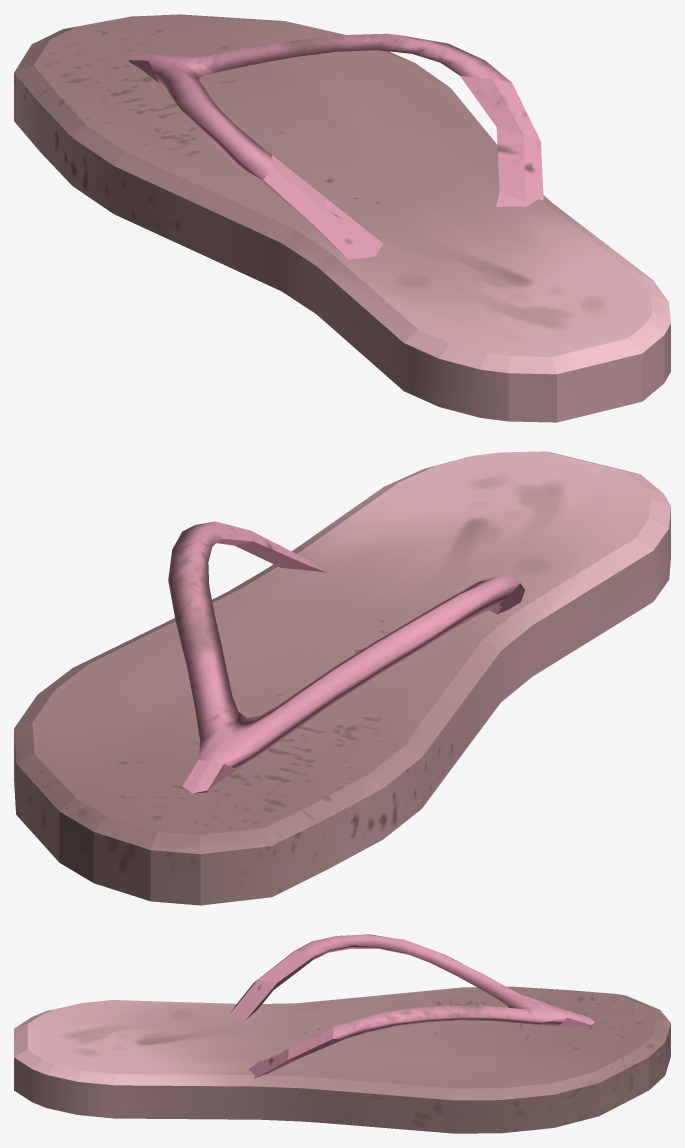
The model's file is pinkFlipFlop_Right.FBX.
3 renders of one model, top to bottom at view 1: azimuth 30°, elevation 25°; view 2: azimuth 150°, elevation 25°; view 3: azimuth 270°, elevation 25°, orthographic. The views are drawn at different scales.
Visible parts, largest first — view 1: pinkFlipFlop_Right; view 2: pinkFlipFlop_Right; view 3: pinkFlipFlop_Right.
Boxes of the visible parts, x1=… form: pinkFlipFlop_Right: x1=14, y1=14, x2=670, y2=422; pinkFlipFlop_Right: x1=14, y1=451, x2=670, y2=905; pinkFlipFlop_Right: x1=14, y1=934, x2=670, y2=1133.
Bounding box in the file's own units: 11.76 × 4.84 × 29.02.
Materials: 1 (1 with a texture image).
